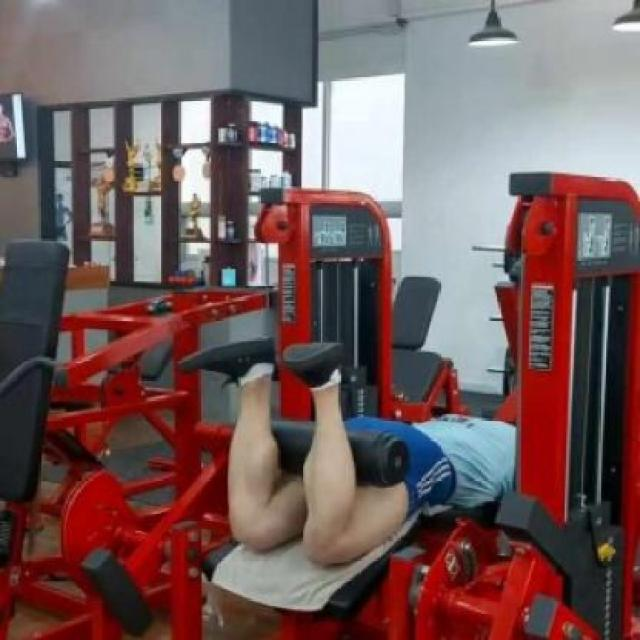reg curl machine: (164, 181, 553, 640)
